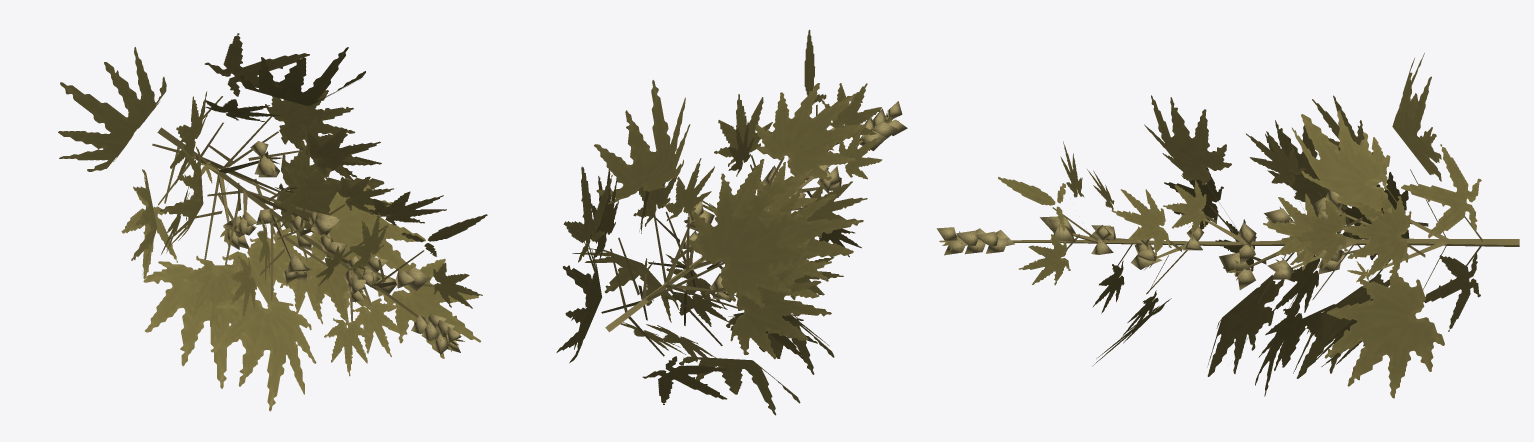
The model's file is p_male_haze_flowering_c2_cards.obj.
3 views of the same model, side by side, from view 1: azimuth 30°, elevation 25°; view 2: azimuth 150°, elevation 25°; view 3: azimuth 270°, elevation 25° (orthographic). The views are drawn at different scales.
Bounding box in the file's own units: 1.38 × 1.28 × 1.91.
Materials: 1 (1 with a texture image).
